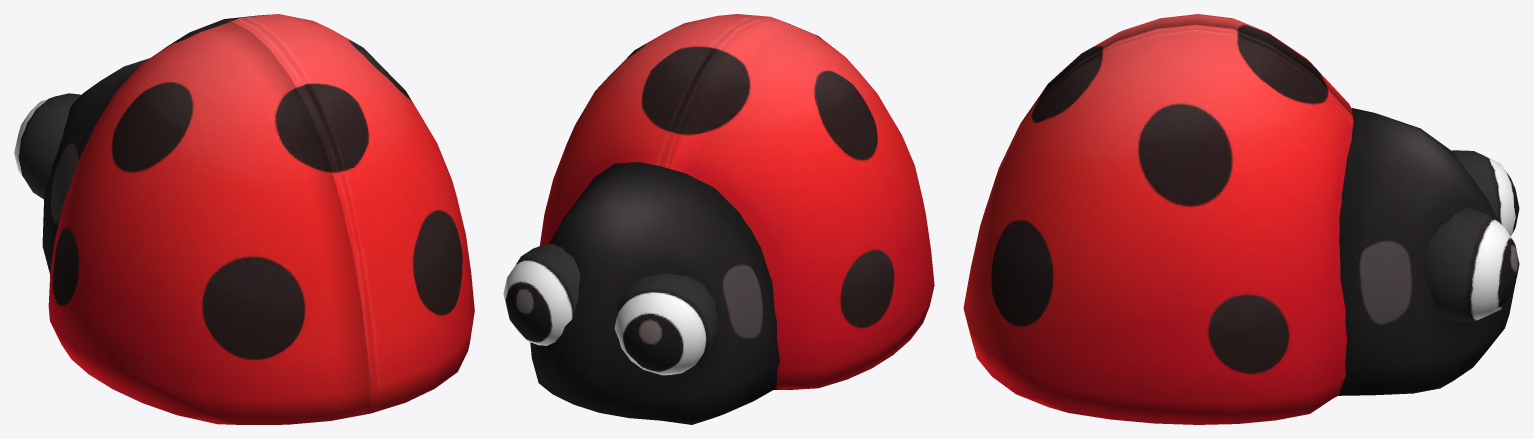
File: ladybug.glb
3 views of the same model, side by side, from view 1: azimuth 30°, elevation 25°; view 2: azimuth 150°, elevation 25°; view 3: azimuth 270°, elevation 25° (orthographic). The views are drawn at different scales.
Visible parts, largest first — view 1: xylophone, GP_Layer.002; view 2: xylophone, GP_Layer.002; view 3: GP_Layer.002, xylophone.
Part boxes in pixels (left/top/right/bottom): xylophone: left=14, top=22, right=371, bottom=424; GP_Layer.002: left=142, top=14, right=474, bottom=413; xylophone: left=591, top=20, right=934, bottom=424; GP_Layer.002: left=503, top=14, right=792, bottom=413; GP_Layer.002: left=963, top=24, right=1519, bottom=424; xylophone: left=985, top=14, right=1519, bottom=235.
Bounding box in the file's own units: 0.8059 × 0.6718 × 1.04.
1 material, 1 textured.
